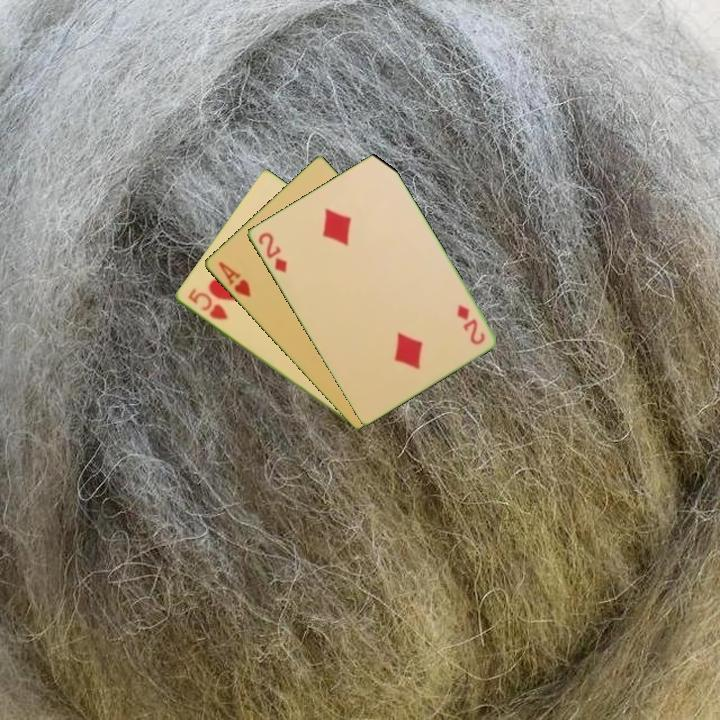2d: (254, 229, 290, 276), (453, 301, 488, 348)
5h: (184, 285, 230, 323)
Ah: (214, 258, 254, 300)
